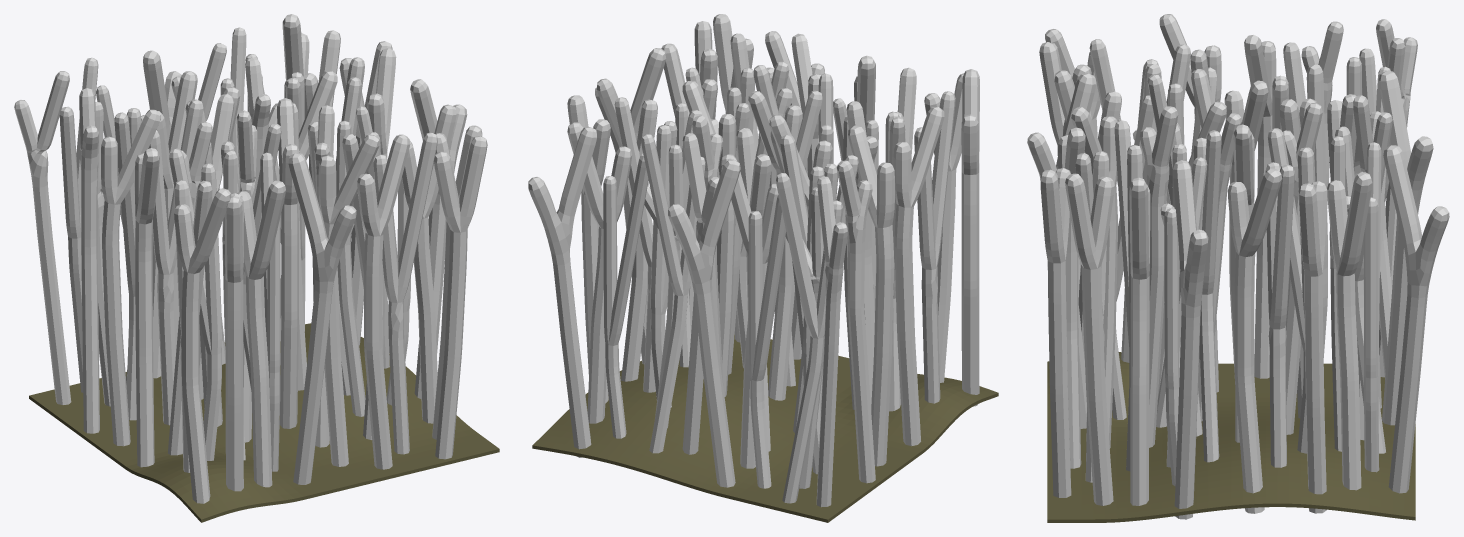
File: waterTube.fbx
The picture shows the model from 3 angles, left to right: view 1: azimuth 30°, elevation 25°; view 2: azimuth 150°, elevation 25°; view 3: azimuth 270°, elevation 25°; orthographic projection. The views are drawn at different scales.
Visible parts, largest first — view 1: Cube; view 2: Cube; view 3: Cube.
Boxes of the visible parts, x1,y1,x2,y2 form: Cube: (14,14,499,522); Cube: (528,14,998,522); Cube: (1027,14,1449,522).
Size of the model in its own units: 236 by 214 by 229.
